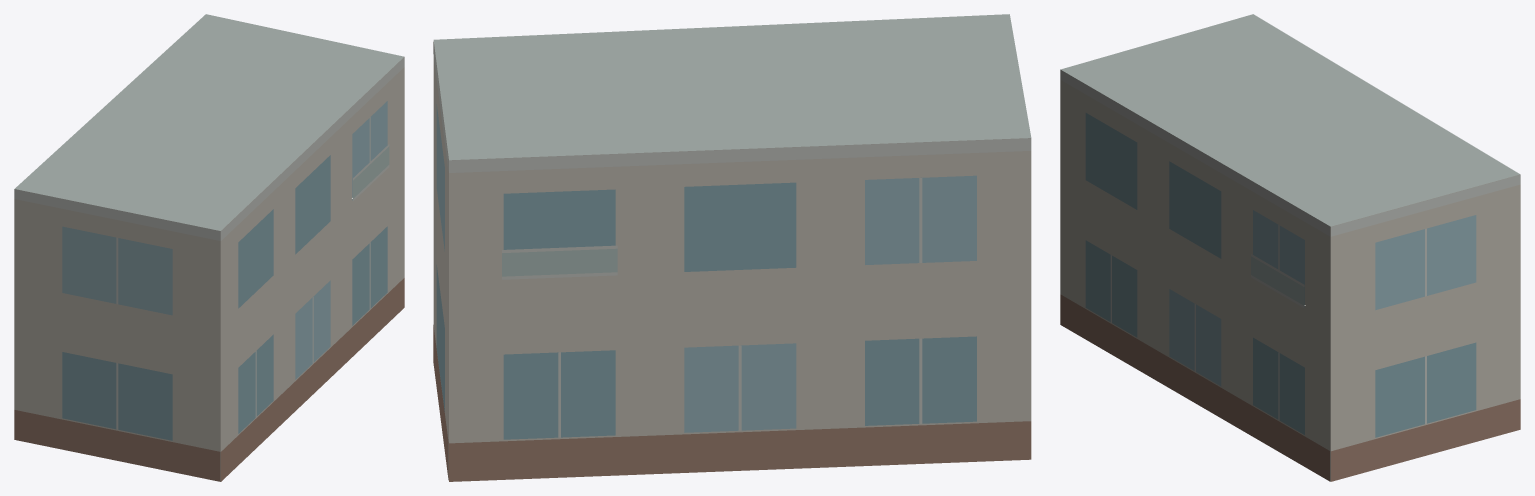
File: survey-upis-32763299.glb
3 views of the same model, side by side, from view 1: azimuth 30°, elevation 25°; view 2: azimuth 150°, elevation 25°; view 3: azimuth 270°, elevation 25° (orthographic). The views are drawn at different scales.
Visible parts, largest first — view 1: survey-upis-32763299.tmp; view 2: survey-upis-32763299.tmp; view 3: survey-upis-32763299.tmp.
Part boxes in pixels (left/top/right/bottom): survey-upis-32763299.tmp: left=14, top=14, right=404, bottom=481; survey-upis-32763299.tmp: left=433, top=14, right=1031, bottom=481; survey-upis-32763299.tmp: left=1060, top=14, right=1520, bottom=481.
Bounding box in the file's own units: 10.91 × 6.1 × 9.98.
